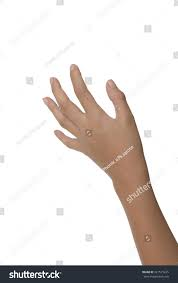hand: (36, 53, 150, 167)
